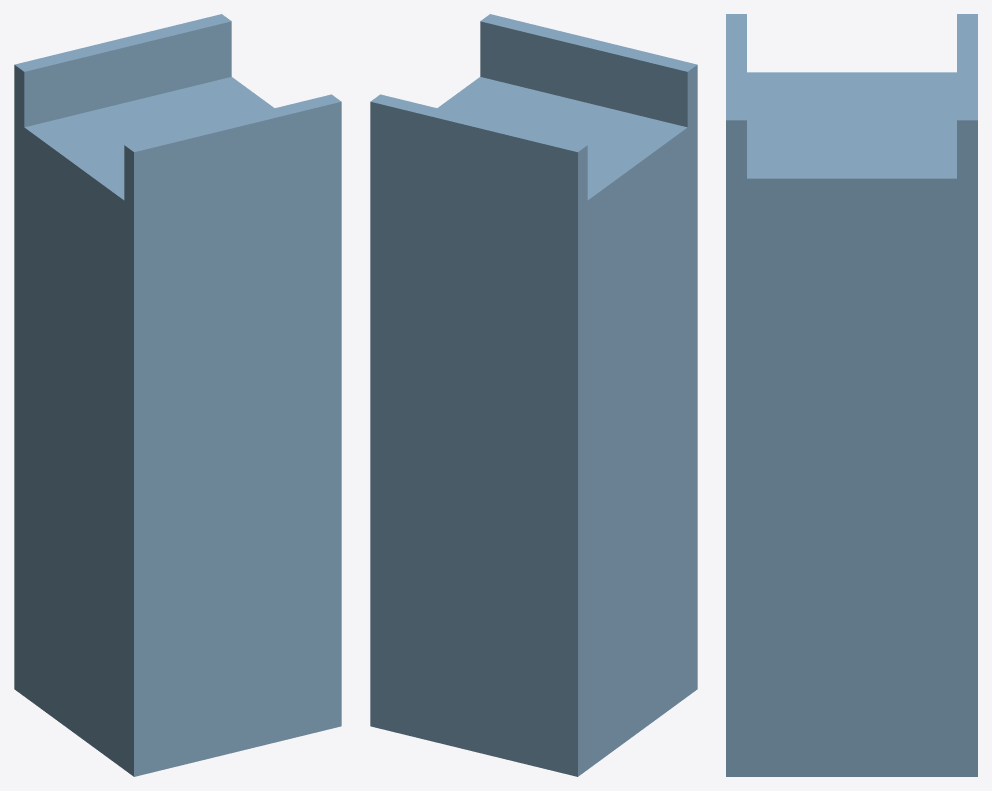
Rendered from LargeWall01.fbx.
3 renders of one model, left to right at view 1: azimuth 30°, elevation 25°; view 2: azimuth 150°, elevation 25°; view 3: azimuth 270°, elevation 25°, orthographic. The views are drawn at different scales.
Parts seen in each view (by area): view 1: Plane; view 2: Plane; view 3: Plane.
Boxes of the visible parts, x1=… form: Plane: x1=14, y1=14, x2=341, y2=776; Plane: x1=370, y1=14, x2=697, y2=776; Plane: x1=726, y1=14, x2=977, y2=776.
Size of the model in its own units: 2 by 5.75 by 2.
